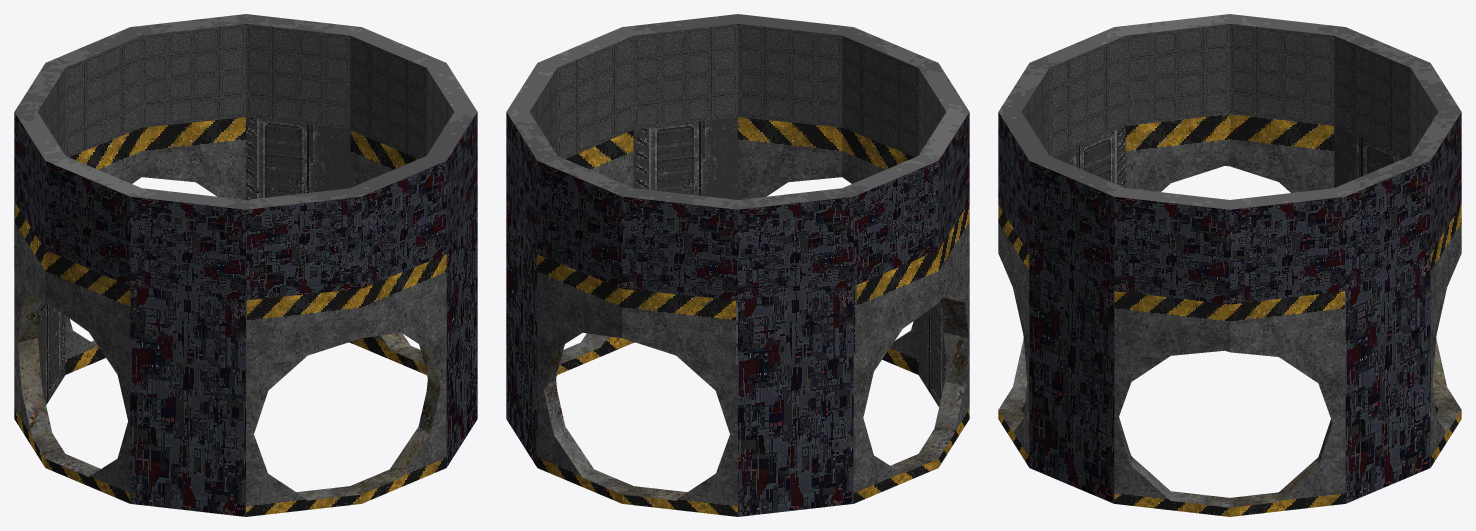
File: Red_Hazard_Cylinder_Hallway_TRI_WALL-col.glb
3 views of the same model, side by side, from view 1: azimuth 30°, elevation 25°; view 2: azimuth 150°, elevation 25°; view 3: azimuth 270°, elevation 25° (orthographic).
Visible parts, largest first — view 1: Red_Hazard_Cylinder_Hallway_TRI_WALL-col; view 2: Red_Hazard_Cylinder_Hallway_TRI_WALL-col; view 3: Red_Hazard_Cylinder_Hallway_TRI_WALL-col.
Boxes of the visible parts, box(x1,y1,x2,y2) form: Red_Hazard_Cylinder_Hallway_TRI_WALL-col: box(14, 14, 477, 516); Red_Hazard_Cylinder_Hallway_TRI_WALL-col: box(506, 14, 969, 516); Red_Hazard_Cylinder_Hallway_TRI_WALL-col: box(998, 14, 1461, 516).
Bounding box in the file's own units: 9.02 × 6.6 × 9.02.
Materials: 1 (1 with a texture image).
